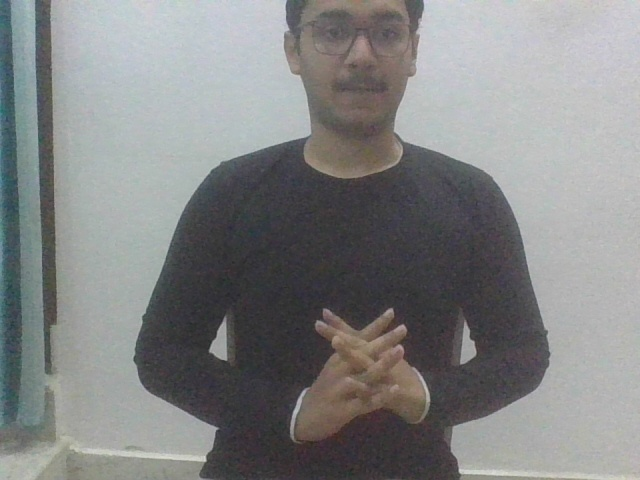W: (290, 308, 429, 451)
